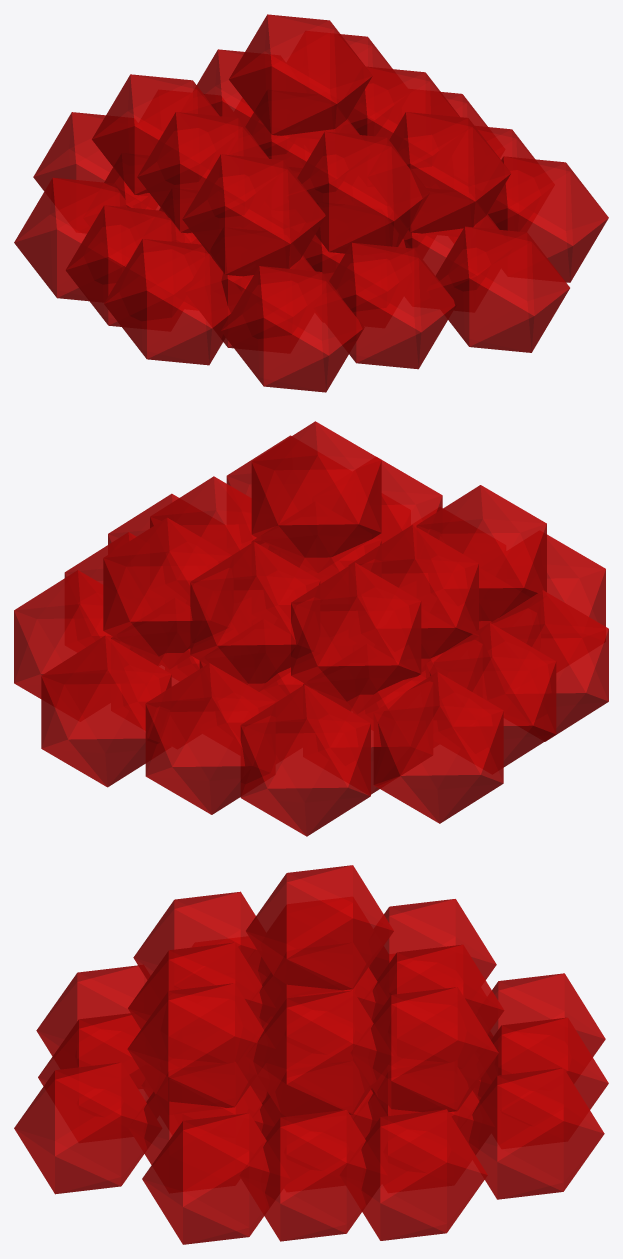
The model's file is gemstones.fbx.
The picture shows the model from 3 angles, top to bottom: view 1: azimuth 30°, elevation 25°; view 2: azimuth 150°, elevation 25°; view 3: azimuth 270°, elevation 25°; orthographic projection. The views are drawn at different scales.
Parts seen in each view (by area): view 1: pPlatonic25; view 2: pPlatonic25; view 3: pPlatonic25.
Part boxes in pixels (x1,y1,x2,y2): pPlatonic25: (14, 14, 608, 392); pPlatonic25: (14, 421, 608, 836); pPlatonic25: (14, 865, 608, 1244).
Size of the model in its own units: 7.47 by 4.14 by 8.01.
